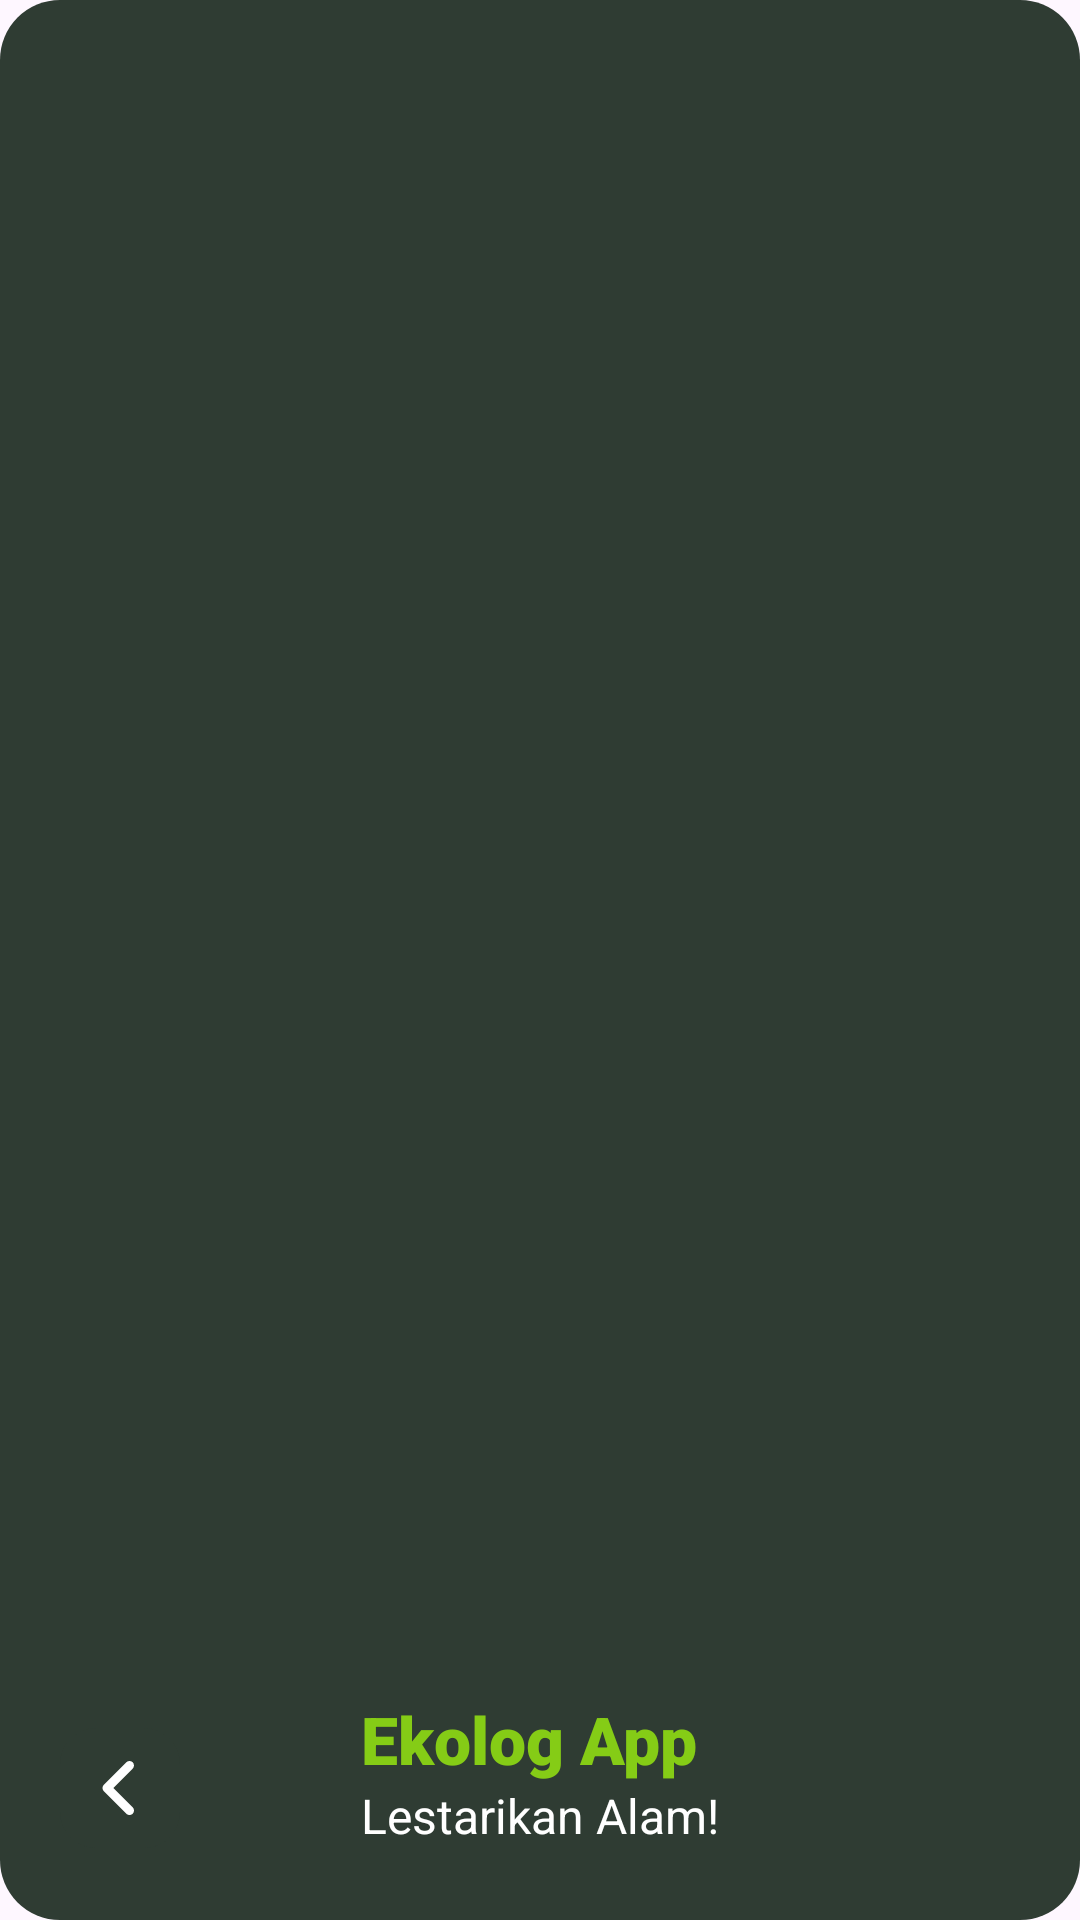

Named icons in this screenshot (1080×1920) and their bounding boxes, {"left": x1, "top": y1, "right": x2, "bottom": y2}:
left: {"left": 102, "top": 1761, "right": 134, "bottom": 1815}
